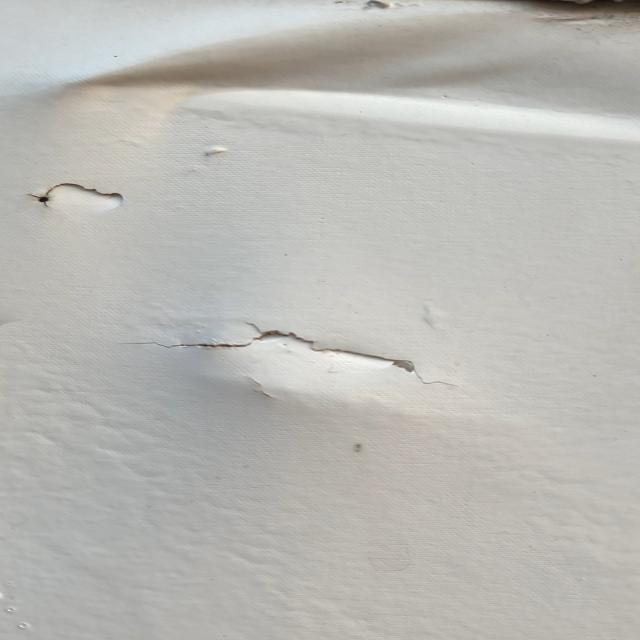Dents or Deformation: (34, 4, 640, 143)
Scratches: (114, 324, 514, 386), (15, 174, 181, 221)
